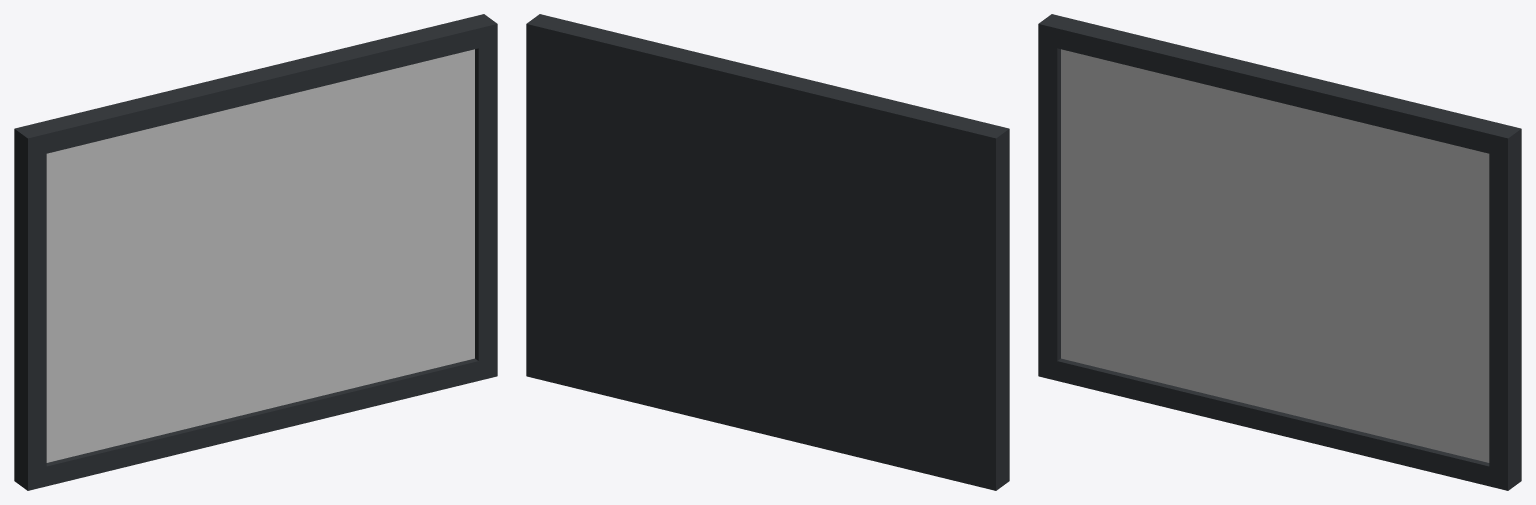
The model's file is Painting_10.fbx.
3 renders of one model, left to right at view 1: azimuth 30°, elevation 25°; view 2: azimuth 150°, elevation 25°; view 3: azimuth 330°, elevation 25°, orthographic.
Parts seen in each view (by area): view 1: Painting_10; view 2: Painting_10; view 3: Painting_10.
Boxes of the visible parts, <box> form: Painting_10: <box>14,14,497,490</box>; Painting_10: <box>526,14,1009,490</box>; Painting_10: <box>1038,14,1521,490</box>.
Size of the model in its own units: 63.27 by 45.37 by 3.14.
